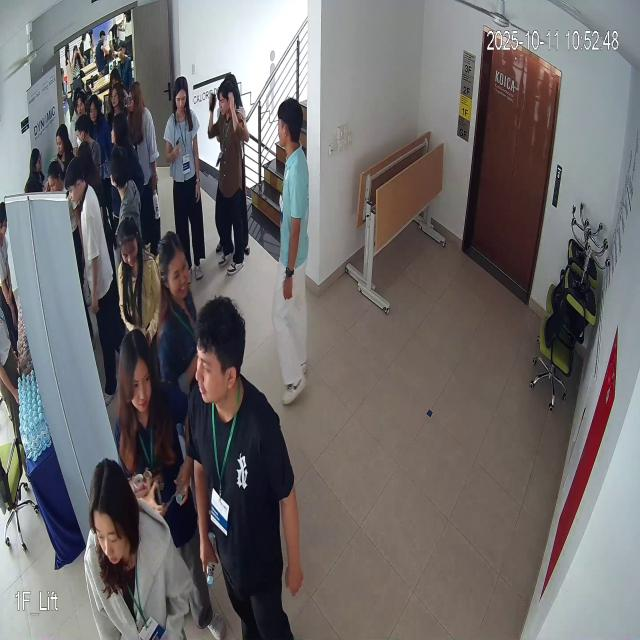face: (192, 294, 248, 406), (116, 319, 161, 421), (160, 223, 192, 307), (117, 211, 140, 273)
